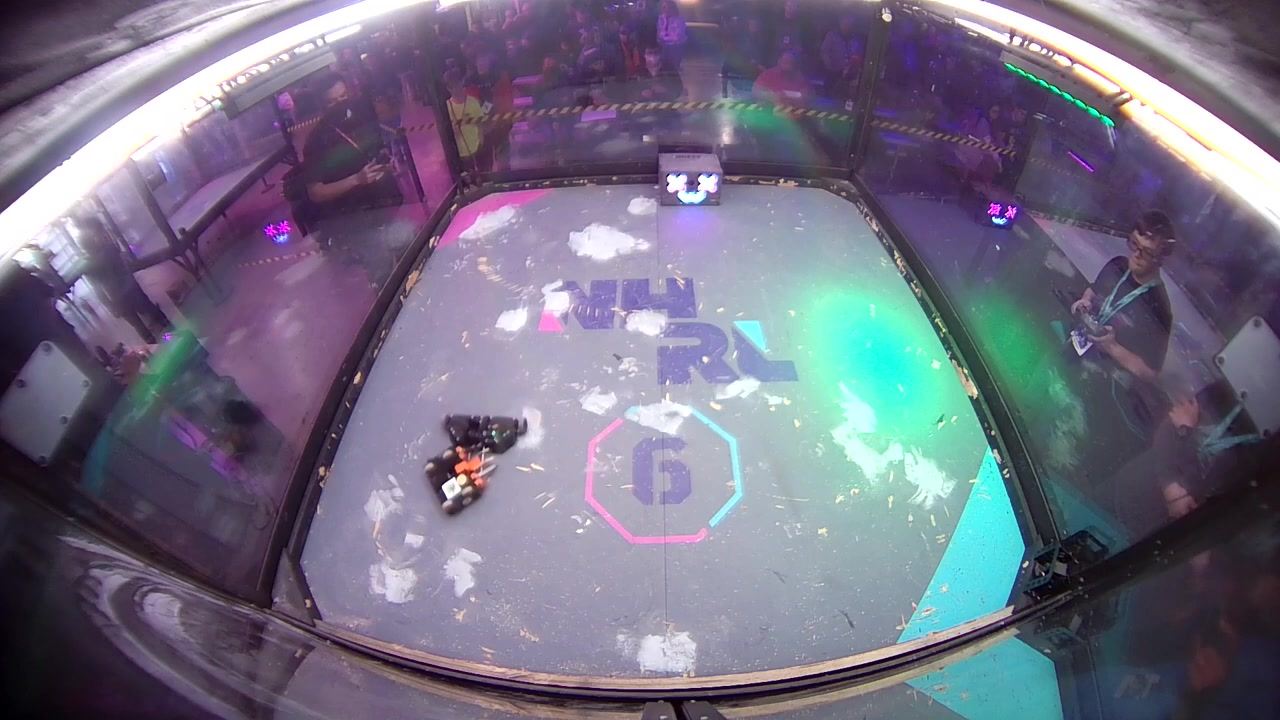combatbot: (422, 445, 484, 516), (443, 410, 528, 454)
housebot: (653, 154, 726, 207)
